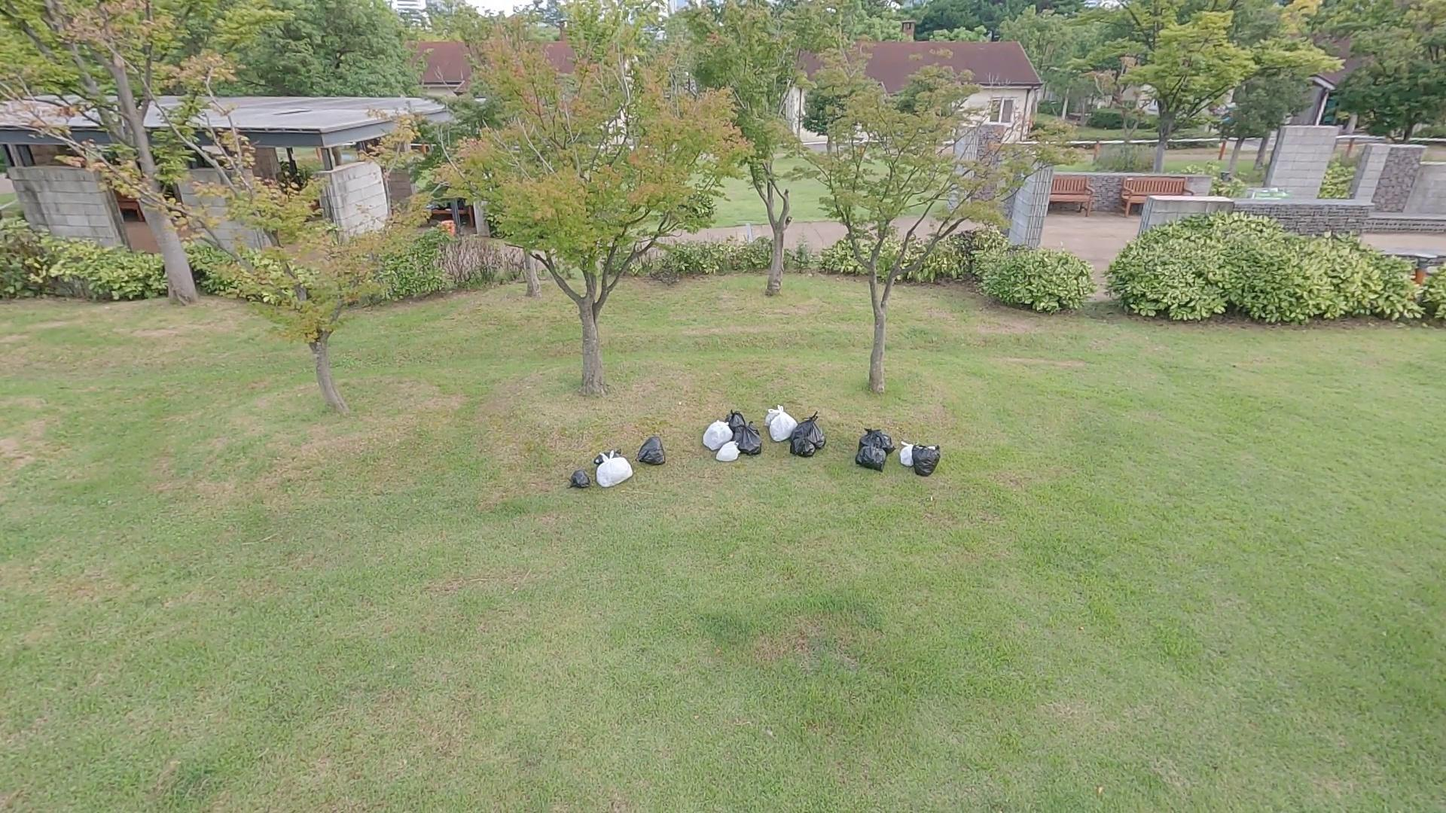trash: (595, 449, 634, 488), (856, 433, 890, 477), (732, 420, 765, 461), (788, 412, 828, 445), (701, 419, 737, 455), (854, 428, 900, 455), (765, 406, 798, 443), (787, 425, 820, 462), (910, 440, 942, 478), (635, 434, 669, 468), (721, 406, 746, 444), (716, 439, 745, 467), (899, 442, 926, 468), (591, 447, 625, 465), (569, 467, 594, 491), (763, 403, 785, 427)
